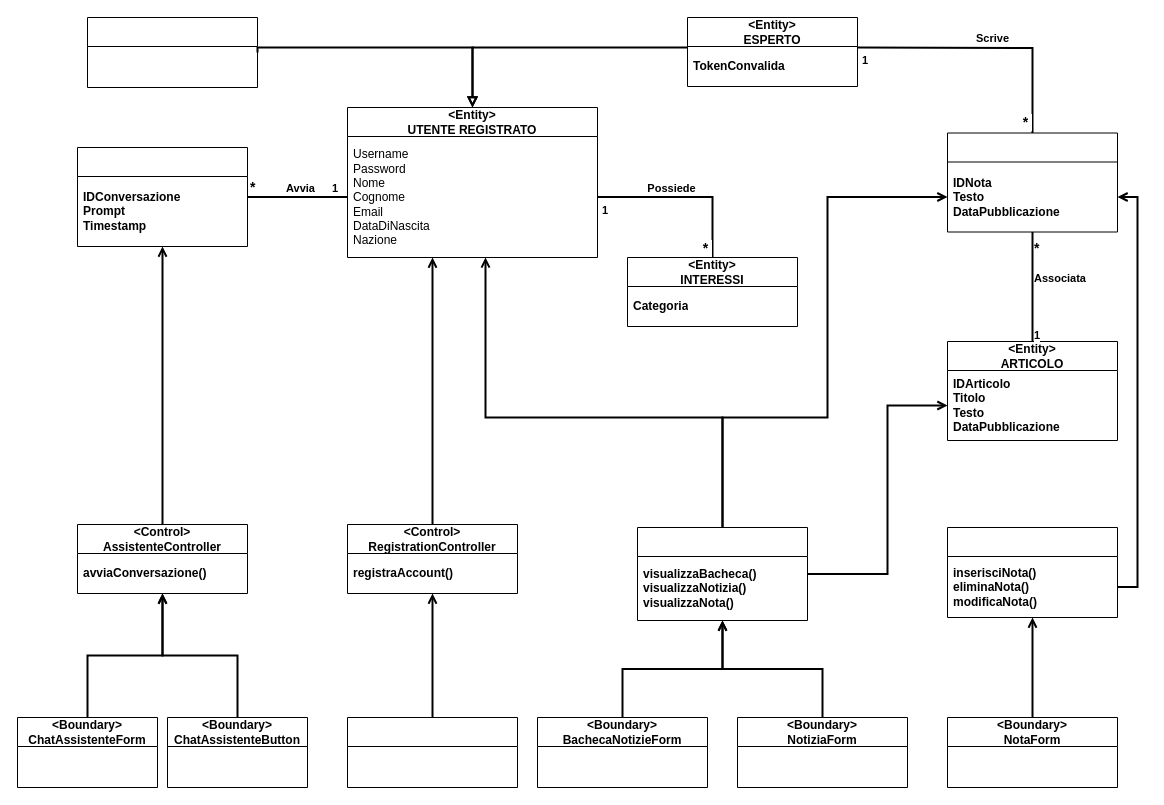
Image size: 1164x805. Some labels were removed from this diagram. Here are the shapes that lost their labels. From the top down, the box of each, then its label:
(86, 16, 258, 88): <Entity> LETTORE
(76, 146, 248, 246): <Entity> CONVERSAZIONE
(946, 132, 1118, 232): <Entity> NOTAESPERTO
(636, 526, 808, 620): <Control> GestoreBachecaController
(946, 526, 1118, 618): <Control> GestoreNoteController
(346, 716, 518, 788): <Boundary> RegistrationForm
